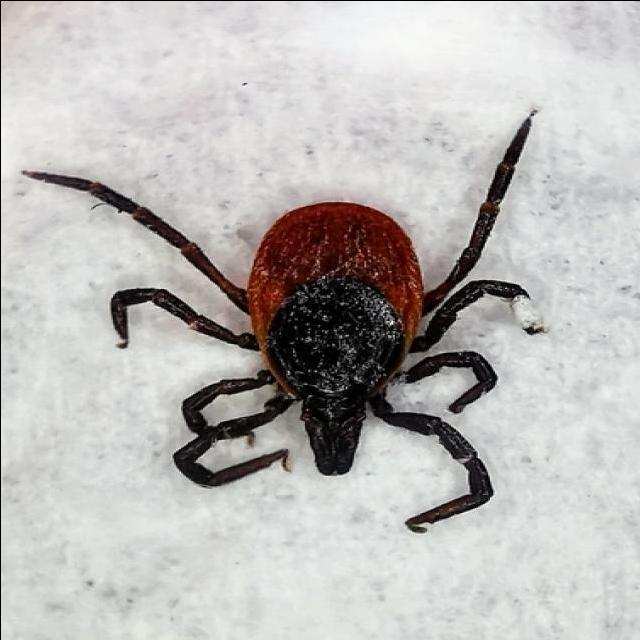Ixodes Ricinus-F: (51, 119, 545, 531)
